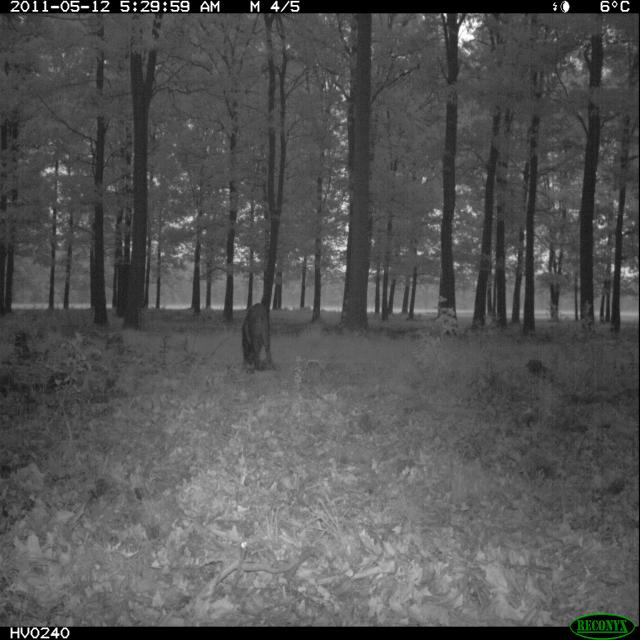boar: (220, 290, 293, 386)
